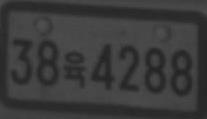2: (119, 45, 139, 93)
3: (10, 38, 33, 84)
4: (90, 44, 114, 90)
8: (36, 39, 59, 85), (170, 50, 193, 96), (144, 47, 166, 93)
육: (63, 50, 86, 87)
